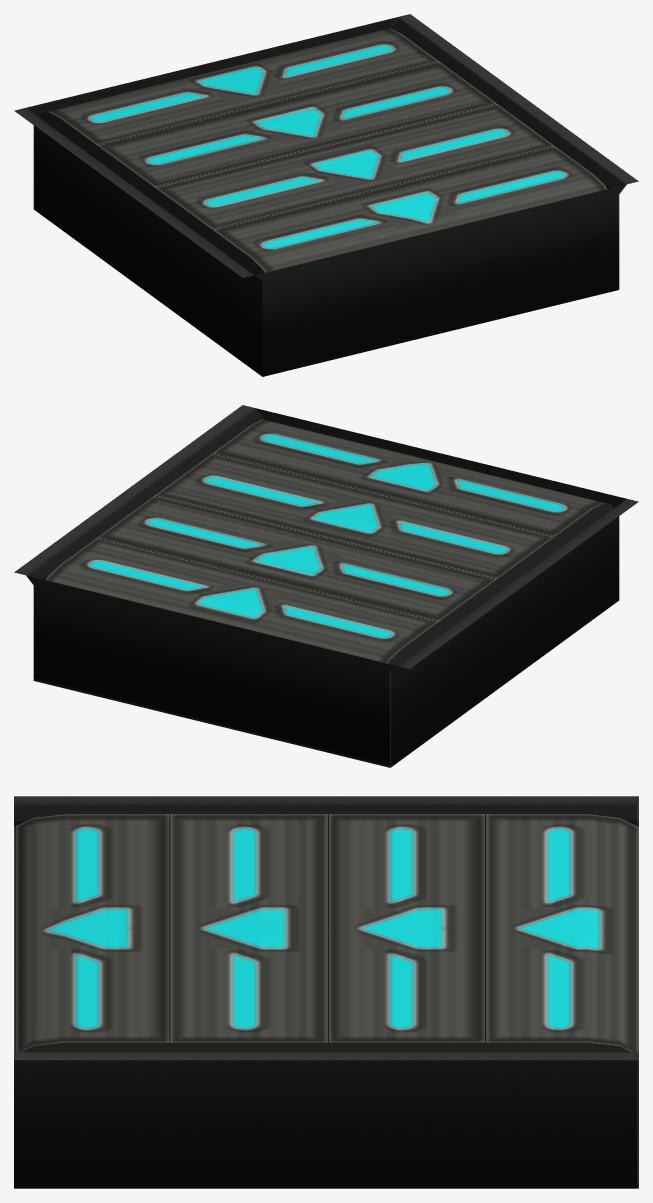
File: Conveyor.FBX
3 views of the same model, one above another, from view 1: azimuth 30°, elevation 25°; view 2: azimuth 150°, elevation 25°; view 3: azimuth 270°, elevation 25° (orthographic). The views are drawn at different scales.
Parts seen in each view (by area): view 1: conveyor_move, conveyor; view 2: conveyor_move, conveyor; view 3: conveyor_move, conveyor.
Part boxes in pixels (<box>): conveyor_move: <box>45,28,607,272</box>; conveyor: <box>14,14,638,376</box>; conveyor_move: <box>45,419,607,663</box>; conveyor: <box>14,405,638,767</box>; conveyor_move: <box>14,814,638,1052</box>; conveyor: <box>14,796,638,1188</box>.
Size of the model in its own units: 100 by 25 by 100.
1 material, 1 textured.
